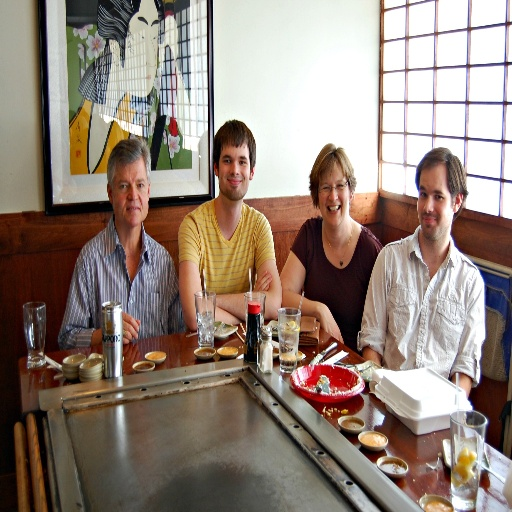hand: (102, 309, 140, 344), (317, 303, 344, 345), (250, 269, 272, 292), (201, 291, 213, 301)
